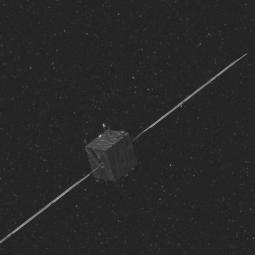smart_1: (52, 111, 176, 199)
